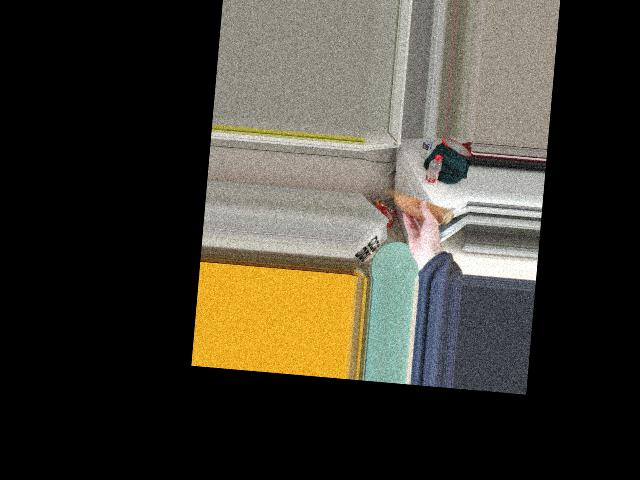sweet_potato: (384, 186, 451, 227)
